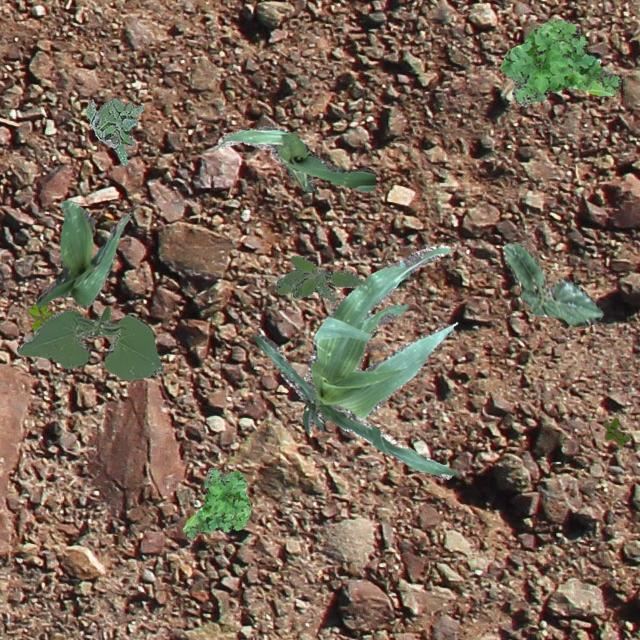crop: (254, 244, 458, 478), (15, 306, 164, 380), (34, 200, 130, 308), (216, 126, 374, 190), (502, 242, 602, 324)
weed: (500, 19, 620, 106), (182, 466, 250, 538), (276, 255, 364, 302), (84, 96, 142, 164), (28, 302, 54, 330), (602, 418, 628, 444)
